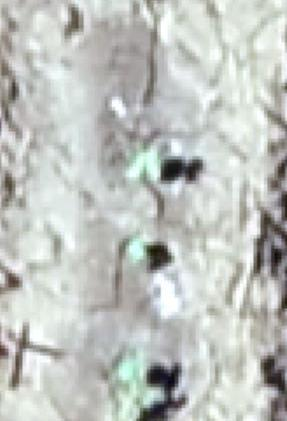cotton: (130, 155, 159, 182), (117, 358, 141, 383), (123, 397, 139, 421), (142, 388, 161, 405), (130, 241, 145, 261)
